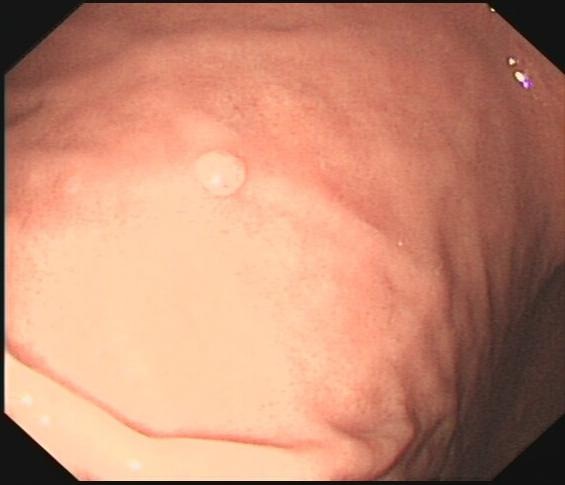Polyp: (172, 134, 275, 229)
